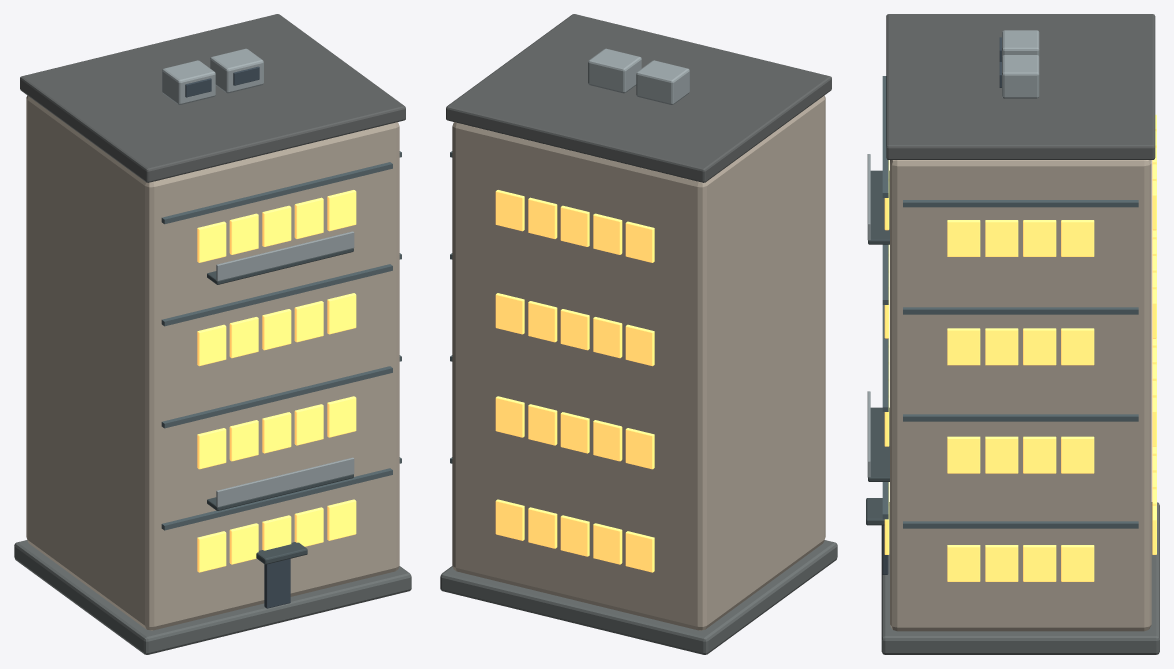
The model's file is residential_courtyard.glb.
3 renders of one model, left to right at view 1: azimuth 30°, elevation 25°; view 2: azimuth 150°, elevation 25°; view 3: azimuth 270°, elevation 25°, orthographic. The views are drawn at different scales.
Visible parts, largest first — view 1: main_massing, roof_slab, foundation, balcony_rail, balcony_rail.001, facade_band_front.001, facade_band_front.002, facade_band_front.003, facade_band_front, hvac_unit, hvac_unit.001, entry_door (+23 smaller); view 2: main_massing, roof_slab, foundation, hvac_unit, hvac_unit.001, rear_window, rear_window.001, rear_window.002, rear_window.003, rear_window.006, rear_window.009, rear_window.010 (+13 smaller); view 3: main_massing, roof_slab, foundation, facade_band_side, facade_band_side.001, facade_band_side.002, facade_band_side.003, hvac_unit.001, balcony_slab, side_window.004, side_window.005, side_window.006 (+18 smaller).
Part boxes in pixels (box(x1,y1,x2,y2)): main_massing: box(26, 95, 399, 630); roof_slab: box(20, 14, 405, 182); foundation: box(14, 540, 411, 654); balcony_rail: box(216, 457, 354, 507); balcony_rail.001: box(216, 231, 354, 281); facade_band_front.001: box(161, 366, 392, 428); facade_band_front.002: box(161, 264, 392, 326); facade_band_front.003: box(161, 162, 392, 224); facade_band_front: box(161, 468, 392, 530); hvac_unit: box(162, 60, 215, 104); hvac_unit.001: box(210, 48, 263, 93); entry_door: box(264, 558, 290, 608); main_massing: box(452, 95, 825, 630); roof_slab: box(446, 14, 831, 182); foundation: box(440, 540, 837, 654); hvac_unit: box(636, 60, 689, 104); hvac_unit.001: box(588, 48, 641, 93); rear_window: box(625, 531, 654, 572); rear_window.001: box(593, 523, 622, 564); rear_window.002: box(560, 515, 589, 556); rear_window.003: box(528, 507, 557, 548); rear_window.006: box(593, 420, 622, 461); rear_window.009: box(495, 396, 524, 437); rear_window.010: box(625, 324, 654, 366); main_massing: box(890, 160, 1151, 631); roof_slab: box(886, 14, 1155, 159); foundation: box(881, 502, 1159, 654); facade_band_side: box(903, 521, 1138, 528); facade_band_side.001: box(903, 414, 1138, 421); facade_band_side.002: box(903, 307, 1138, 314); facade_band_side.003: box(903, 200, 1138, 207); hvac_unit.001: box(1002, 55, 1039, 98); balcony_slab: box(868, 407, 889, 481); side_window.004: box(1061, 436, 1094, 473); side_window.005: box(1023, 436, 1056, 473); side_window.006: box(985, 436, 1018, 473).
Size of the model in its own units: 1.56 by 2.85 by 1.42.
